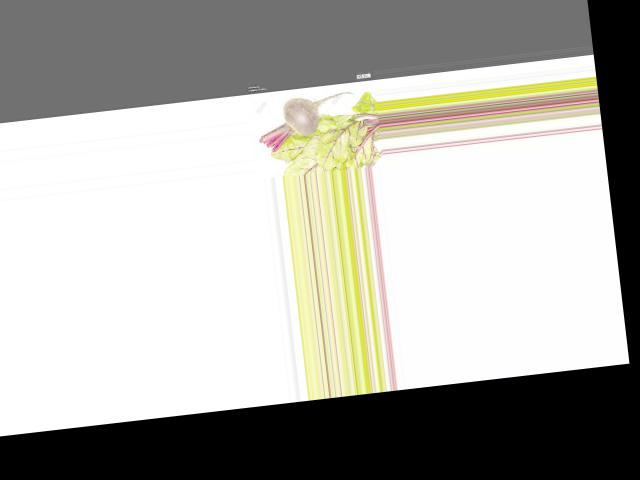beet: (254, 90, 359, 153)
